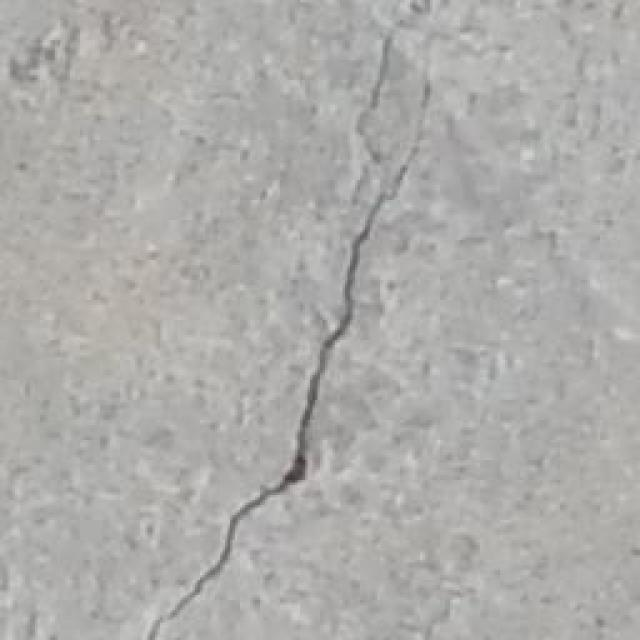concrete-crack: (136, 63, 442, 634)
